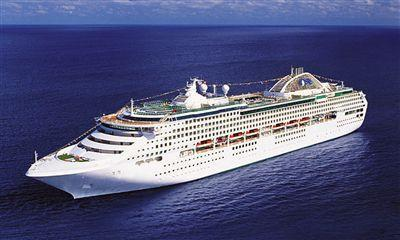Ship: (27, 73, 379, 202)
